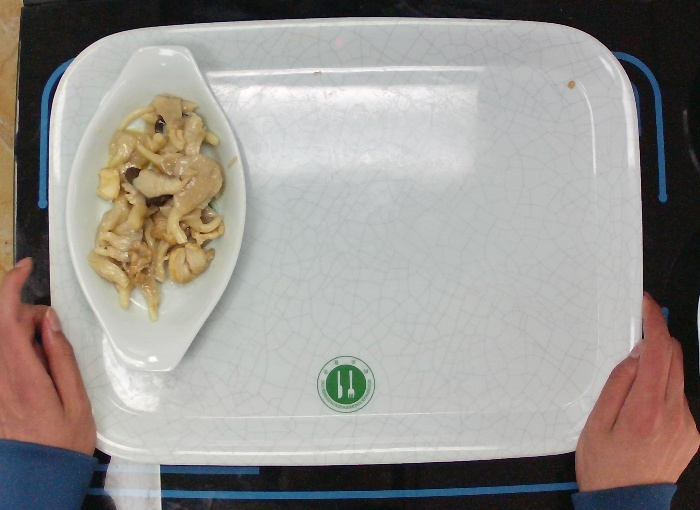JYsf-Yu_Pan: (66, 41, 249, 375)
